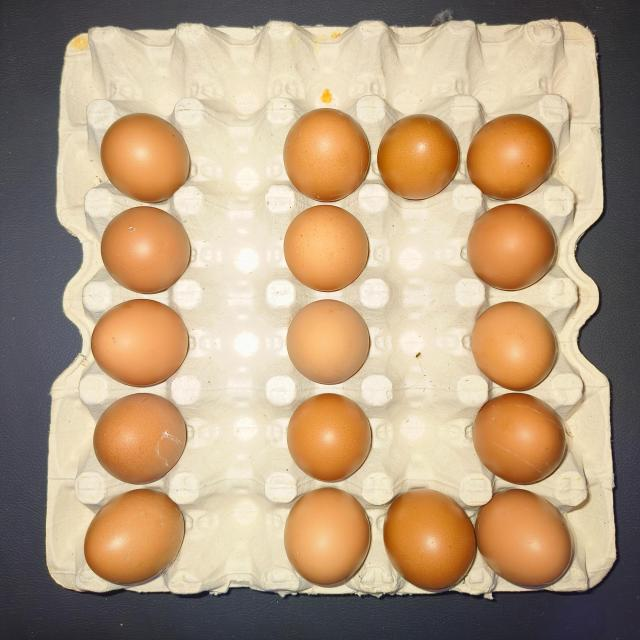Eggs: (77, 493, 192, 578), (94, 204, 192, 298), (100, 114, 199, 206), (384, 489, 474, 590), (88, 393, 188, 483), (481, 489, 571, 586), (285, 103, 371, 203), (90, 302, 192, 386), (285, 489, 366, 592), (470, 398, 571, 480), (280, 392, 372, 481), (282, 206, 373, 295), (285, 301, 373, 393), (473, 104, 555, 202), (470, 209, 560, 296), (475, 304, 561, 390), (381, 107, 459, 201)
